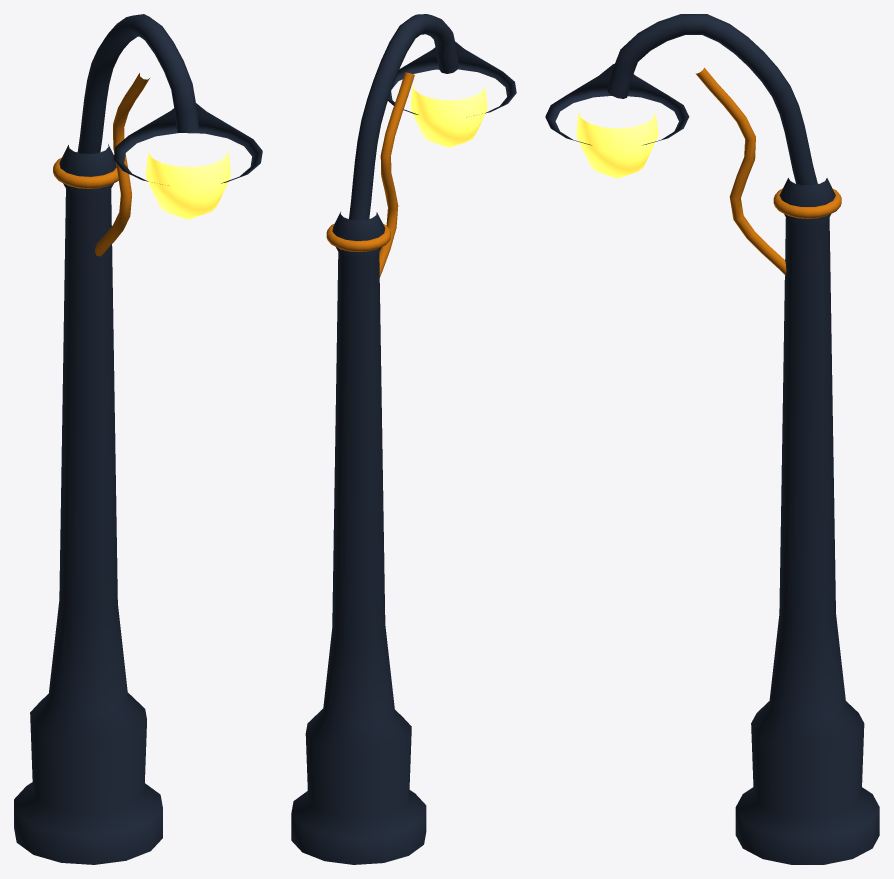
Rendered from env-street-lamp.glb.
The picture shows the model from 3 angles, left to right: view 1: azimuth 30°, elevation 25°; view 2: azimuth 150°, elevation 25°; view 3: azimuth 270°, elevation 25°; orthographic projection. The views are drawn at different scales.
Parts seen in each view (by area): view 1: EnvStreetLamp; view 2: EnvStreetLamp; view 3: EnvStreetLamp.
Part boxes in pixels (left/top/right/bottom): EnvStreetLamp: left=14, top=14, right=262, bottom=864; EnvStreetLamp: left=291, top=14, right=516, bottom=864; EnvStreetLamp: left=545, top=14, right=879, bottom=864.
Bounding box in the file's own units: 0.56 × 3.51 × 1.3.
